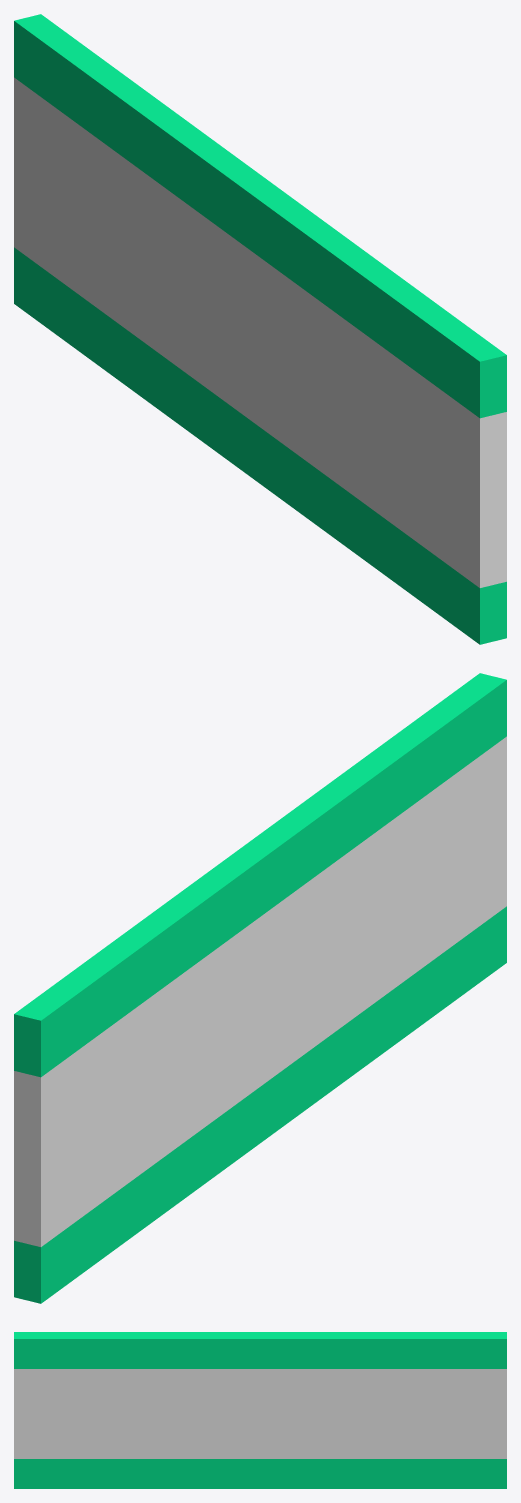
Rendered from ROOM73B2-KITCHEN-SHELF-BODYSET2_link_mesh.dae.
3 renders of one model, top to bottom at view 1: azimuth 30°, elevation 25°; view 2: azimuth 150°, elevation 25°; view 3: azimuth 270°, elevation 25°, orthographic. The views are drawn at different scales.
Visible parts, largest first — view 1: ROOM73B2-KITCHEN-SHELF-BODYSET2_link (×3); view 2: ROOM73B2-KITCHEN-SHELF-BODYSET2_link (×3); view 3: ROOM73B2-KITCHEN-SHELF-BODYSET2_link (×3).
Boxes of the visible parts, left/top/right/bottom form: ROOM73B2-KITCHEN-SHELF-BODYSET2_link (×3): left=14, top=14, right=506, bottom=644; ROOM73B2-KITCHEN-SHELF-BODYSET2_link (×3): left=14, top=673, right=506, bottom=1303; ROOM73B2-KITCHEN-SHELF-BODYSET2_link (×3): left=14, top=1332, right=506, bottom=1488.
Bounding box in the file's own units: 0.03 × 0.3 × 0.895.
